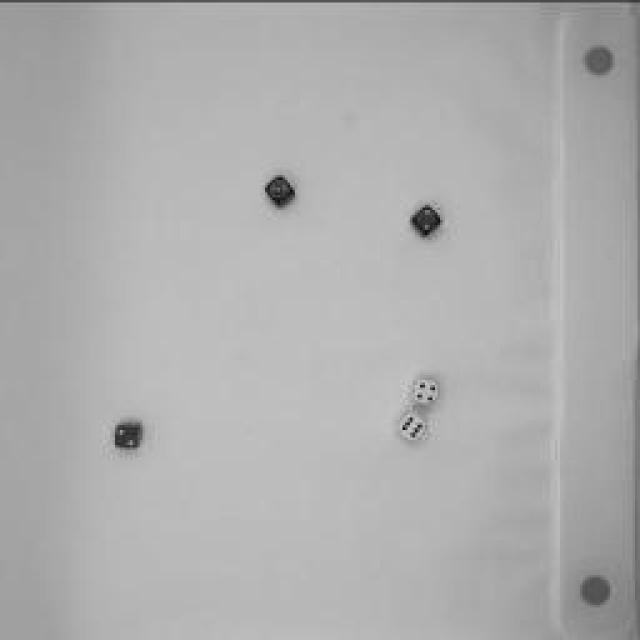dice_1: (254, 165, 306, 215)
dice_2: (106, 414, 146, 461), (405, 200, 447, 240)
dice_4: (406, 369, 446, 409)
dice_6: (391, 402, 434, 448)
